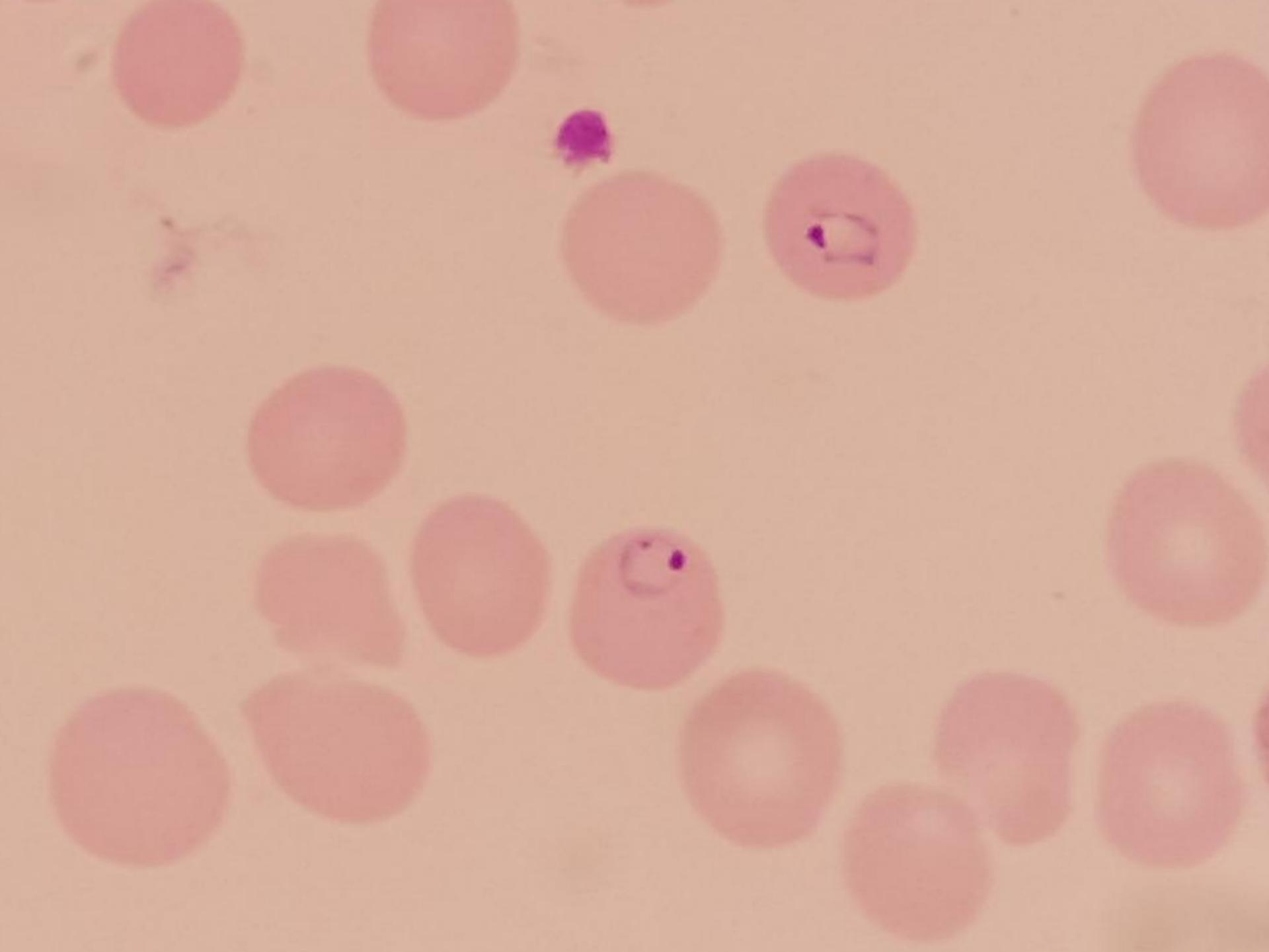Infected: (566, 525, 725, 689), (767, 152, 922, 295)
Uninfected: (51, 686, 227, 865), (676, 669, 839, 845), (243, 673, 429, 826), (1104, 458, 1267, 627), (932, 673, 1084, 845), (563, 172, 721, 323), (1132, 56, 1269, 228), (246, 364, 404, 513), (1099, 704, 1244, 865), (848, 787, 991, 943), (411, 496, 551, 652), (263, 535, 409, 669), (362, 0, 522, 115), (116, 0, 241, 127)
